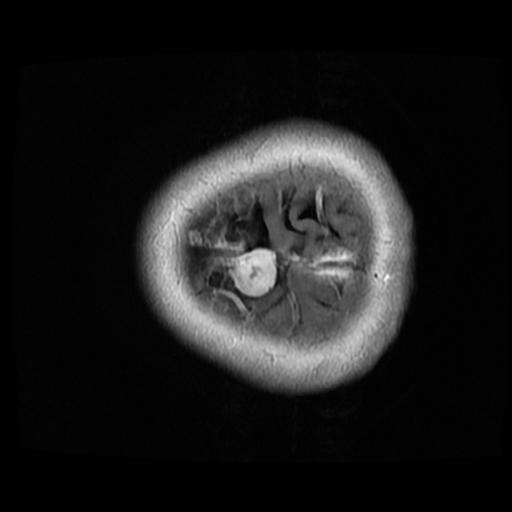meningioma: (228, 249, 276, 296)
